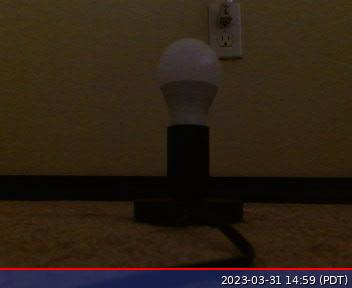Fan: (155, 38, 224, 105)
